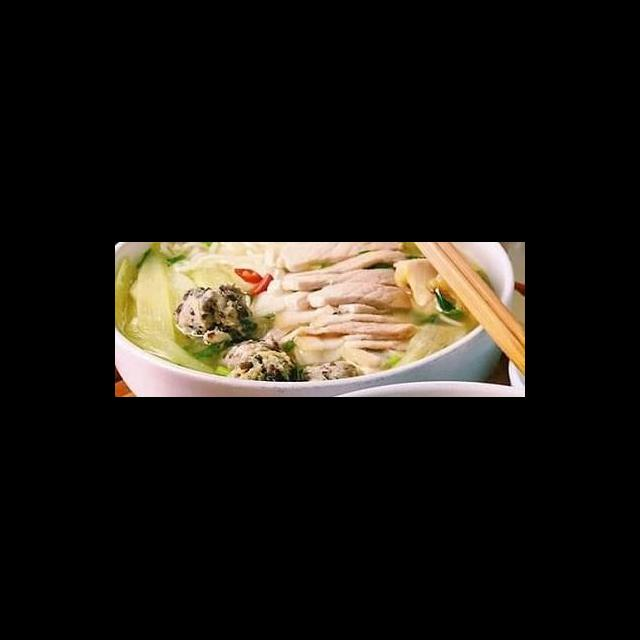vien moc: (166, 284, 267, 348), (216, 340, 308, 384), (298, 360, 363, 384)
